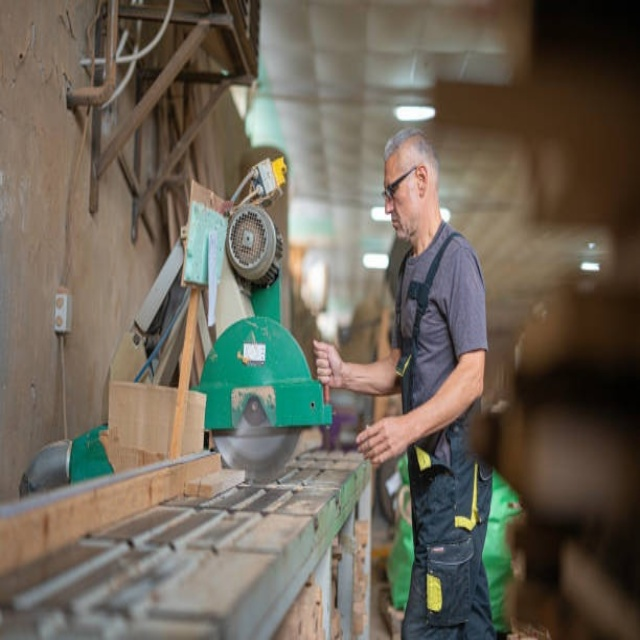Gafas: (383, 165, 421, 202)
Sin_guantes: (356, 413, 410, 471), (312, 334, 344, 389)
Sin_mascara: (387, 212, 407, 235)
